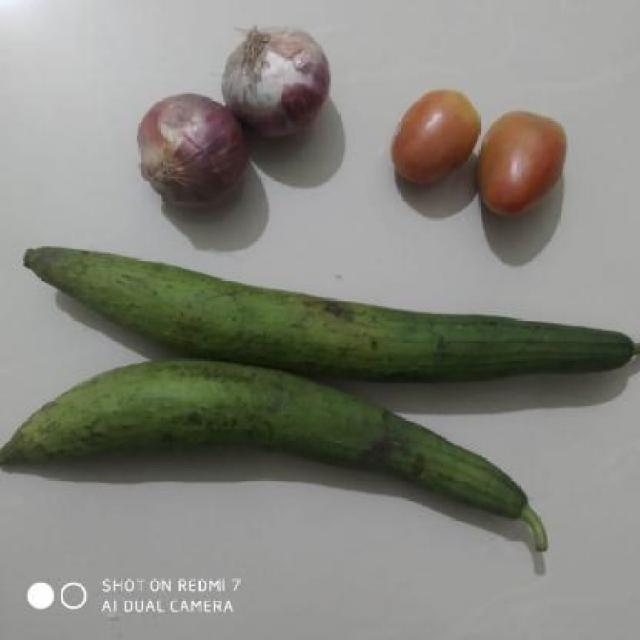Onion: (123, 95, 249, 214), (224, 24, 338, 138)
Sponge Gourd: (0, 249, 640, 549)
Tomato: (472, 109, 577, 226), (378, 89, 486, 197)
